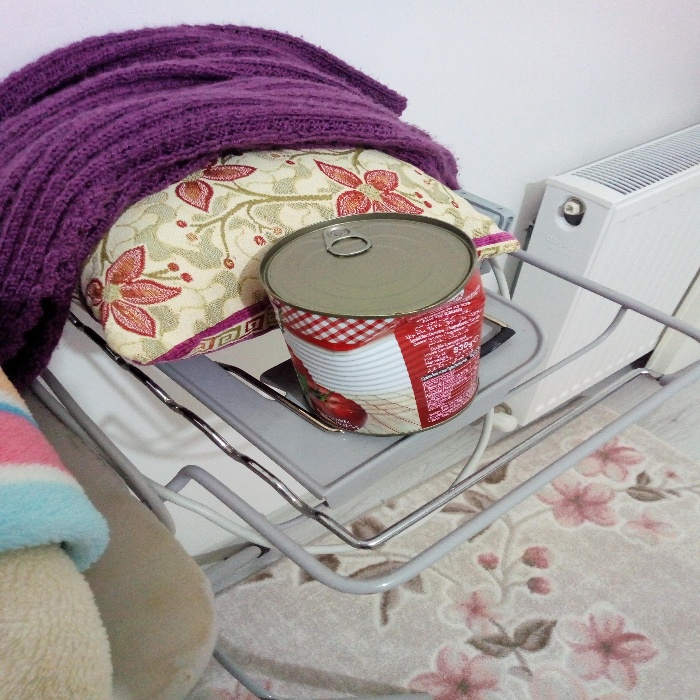salca: (262, 192, 501, 432)
